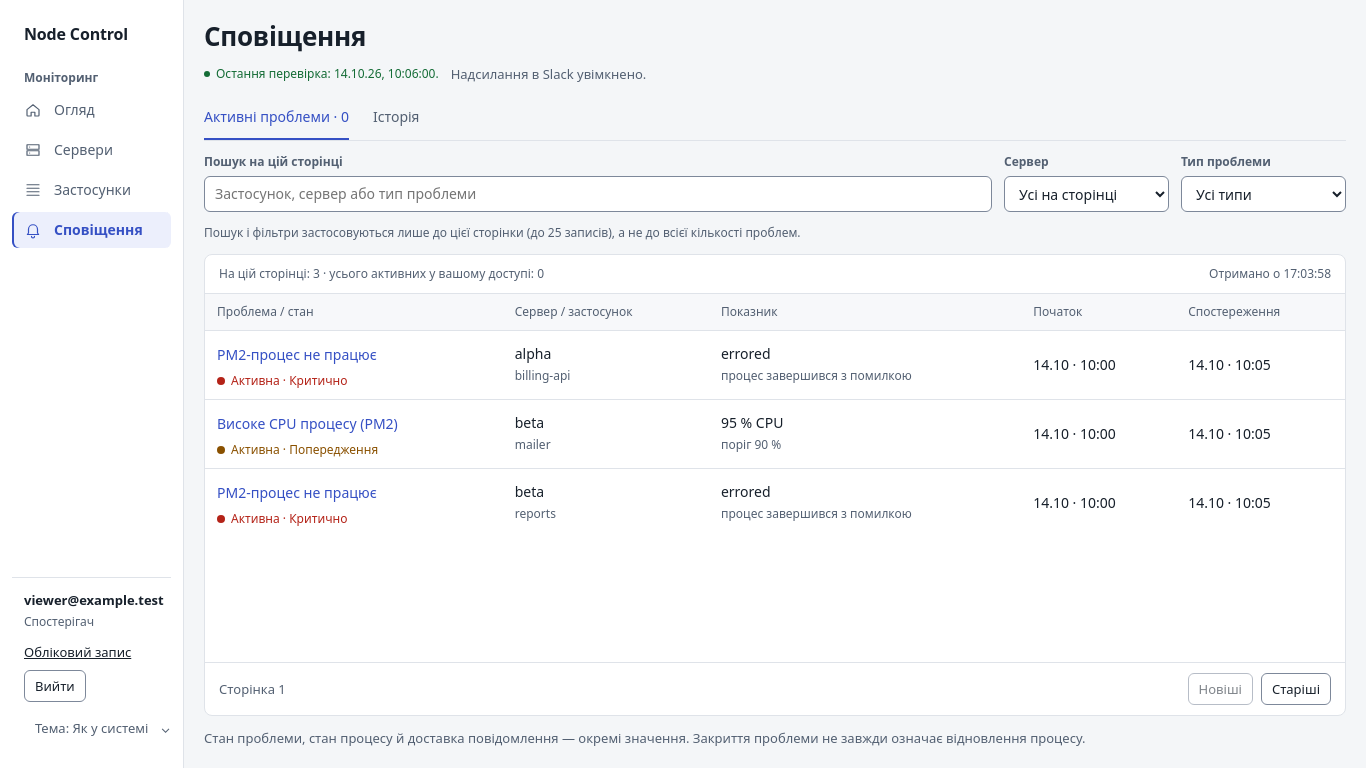
Test: alerts: page-local search and filters, paging, polling › search / server / type filter only this page, say so, keep «Старіші»; an empty filtered page offers the next one; reset
The image size is (1366, 768).
expect the text "Пошук і фільтри застосовуються лише до цієї сторінки (до 25 записів)" is shown: met, box top-left (204, 224), bottom-right (801, 241)
In the search field labelled "Пошук на цій сторінці": (598, 194) top-left (204, 176), bottom-right (992, 212), type "BILL"
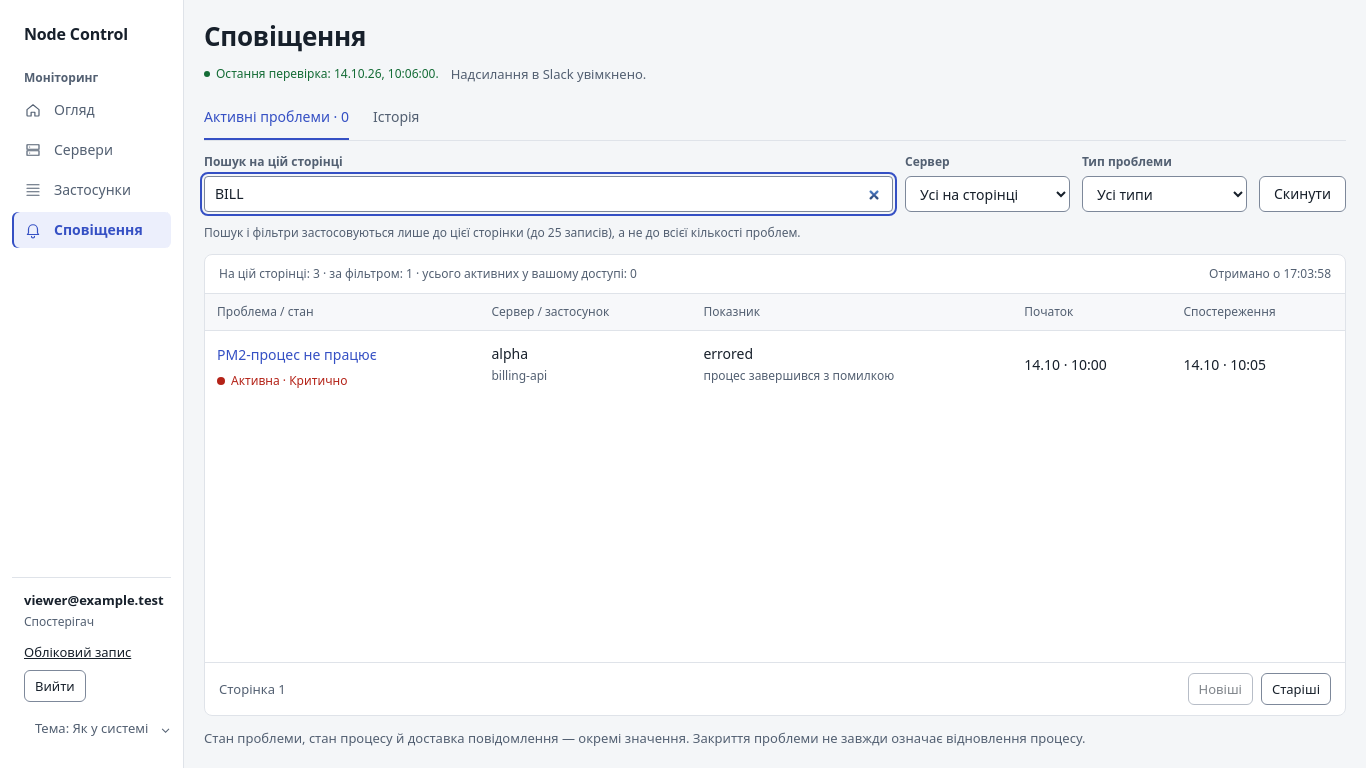
expect the text "На цій сторінці: 3 · за фільтром: 1" is shown: met, box top-left (219, 265), bottom-right (413, 282)
expect the text "mailer" is gone: met
Clear the search field labelled "Пошук на цій сторінці": (548, 194) top-left (204, 176), bottom-right (893, 212)
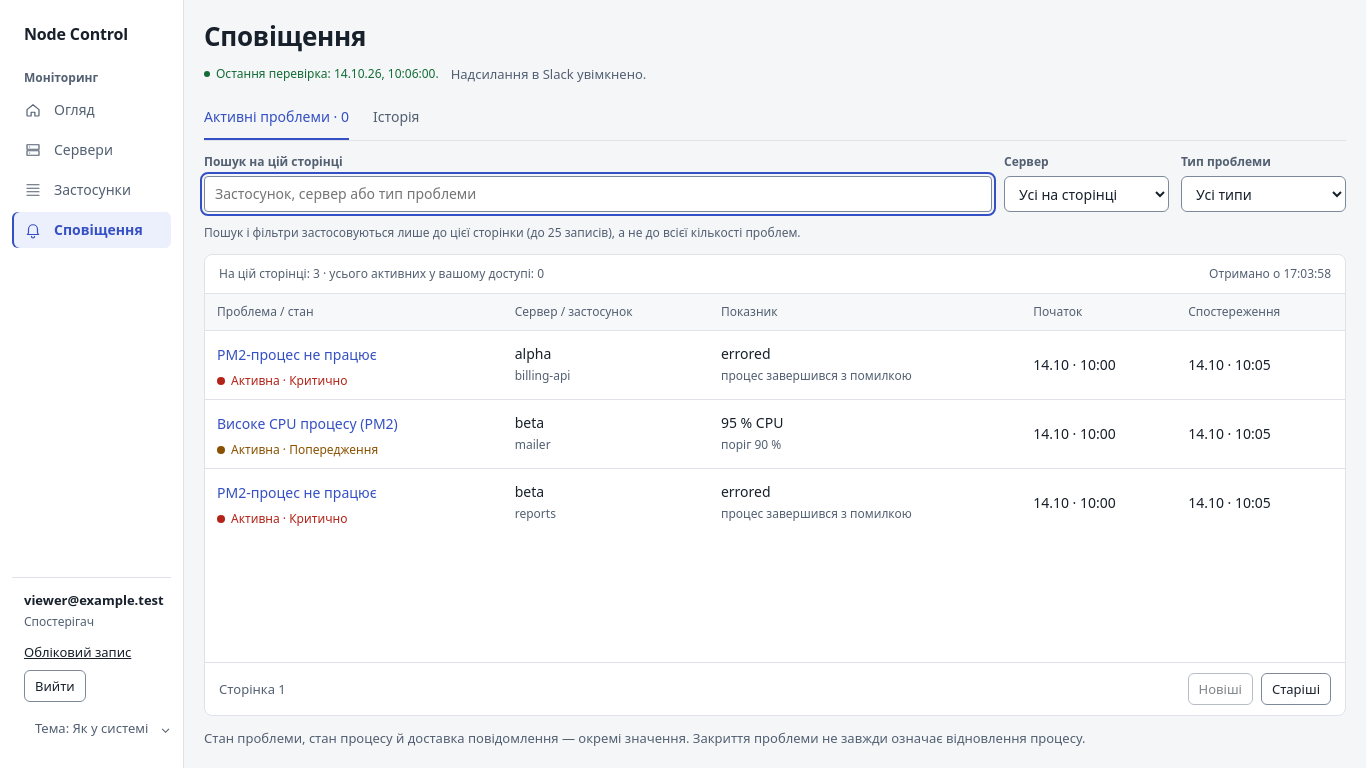
Select "beta" in the dropdown labelled "Сервер": (1086, 194) top-left (1004, 176), bottom-right (1169, 212)
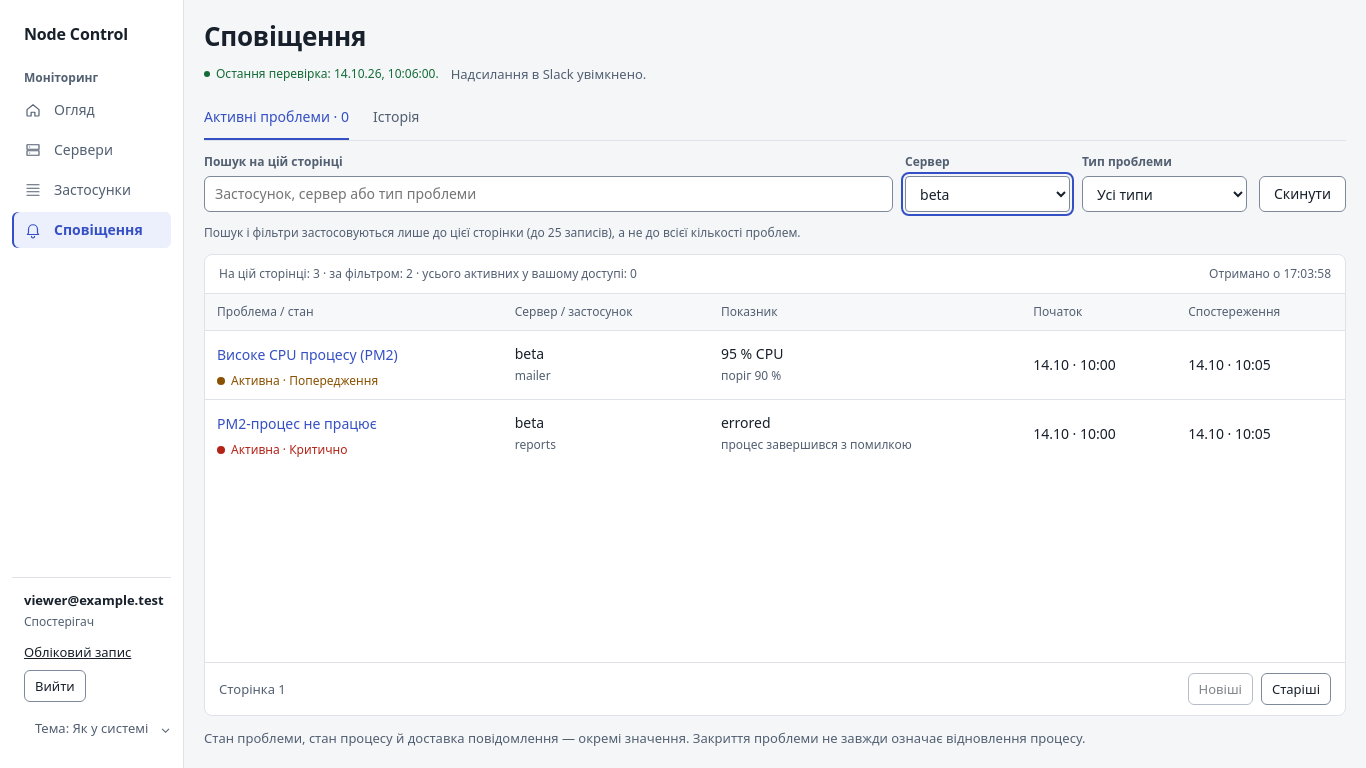
Select "Високе CPU процесу (PM2)" in the dropdown labelled "Тип проблеми": (1164, 194) top-left (1082, 176), bottom-right (1247, 212)
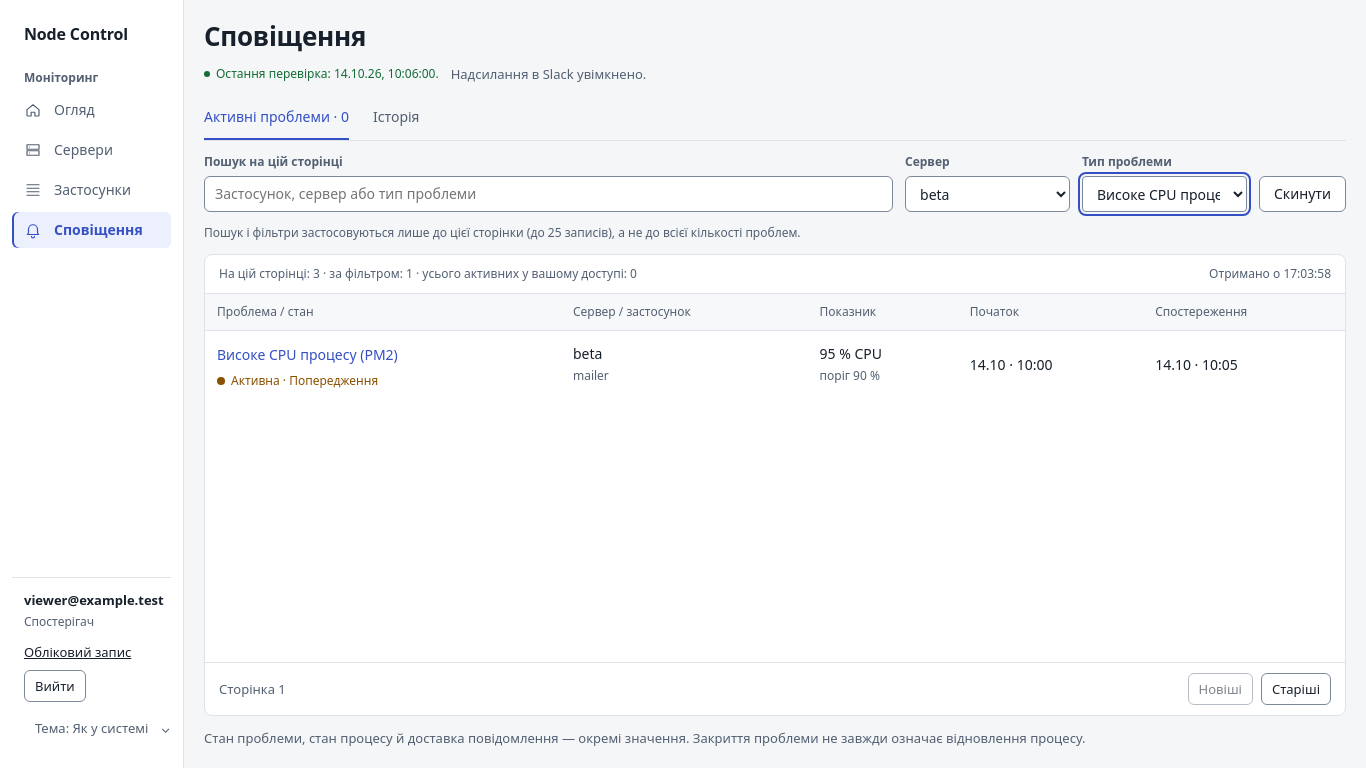
expect the text "mailer" is shown: met, box top-left (573, 366), bottom-right (609, 384)
expect the text "reports" is gone: met
In the search field labelled "Пошук на цій сторінці": (548, 194) top-left (204, 176), bottom-right (893, 212), type "nothing-here"
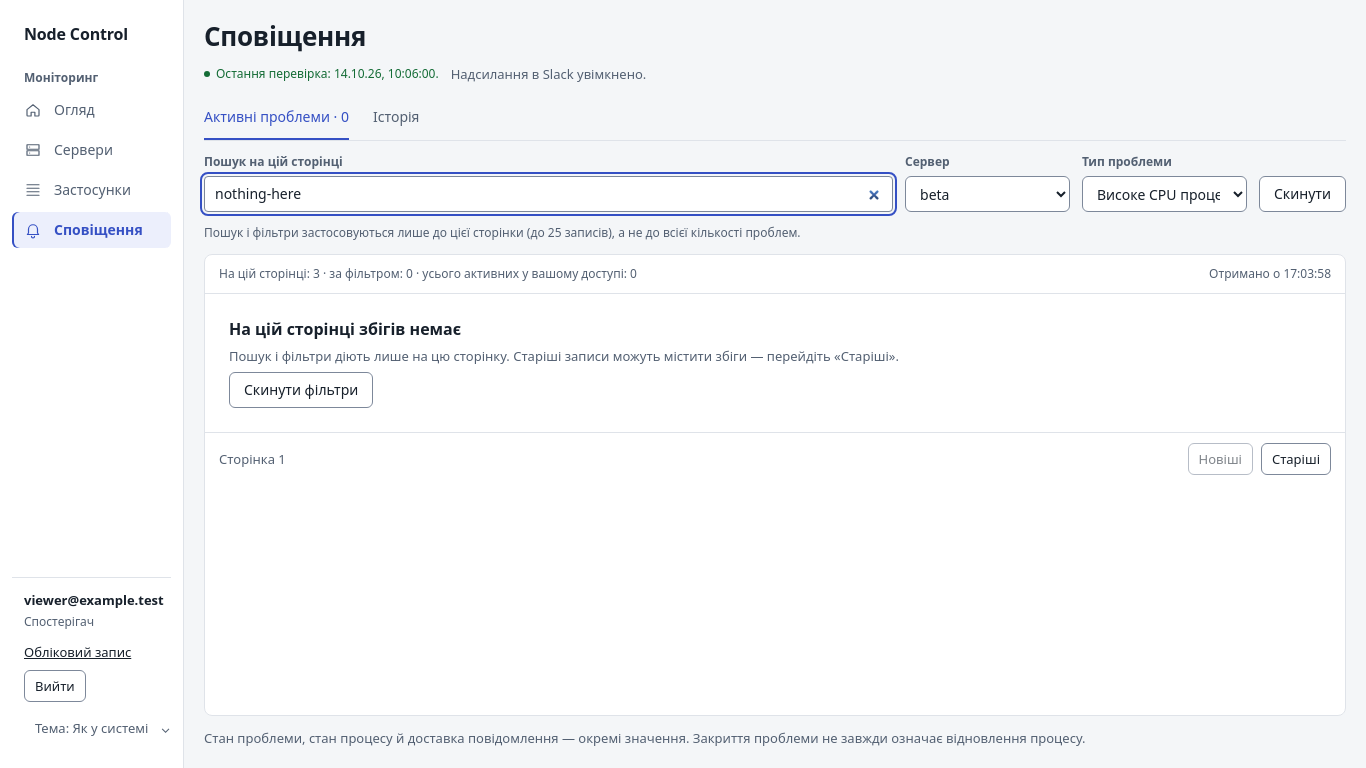
expect the button "Старіші" is enabled: met, box top-left (1261, 443), bottom-right (1331, 475)
expect the heading "На цій сторінці збігів немає" is shown: met, box top-left (229, 318), bottom-right (461, 340)
expect the text "Старіші записи можуть містити збіги" is shown: met, box top-left (229, 347), bottom-right (899, 365)
Click the button "Скинути": (1302, 194) top-left (1259, 176), bottom-right (1346, 212)
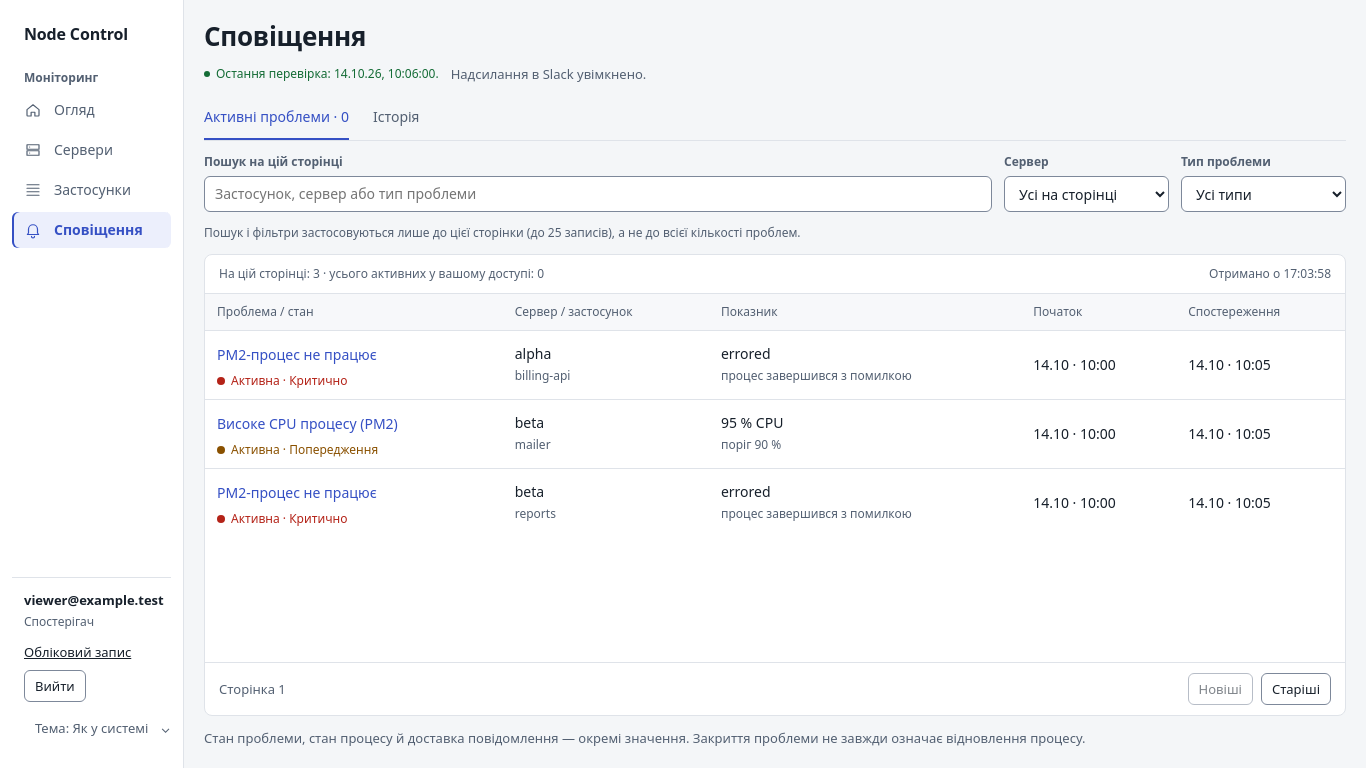
expect the text "На цій сторінці: 3 · усього активних у вашому доступі: 0" is shown: met, box top-left (219, 265), bottom-right (544, 283)
